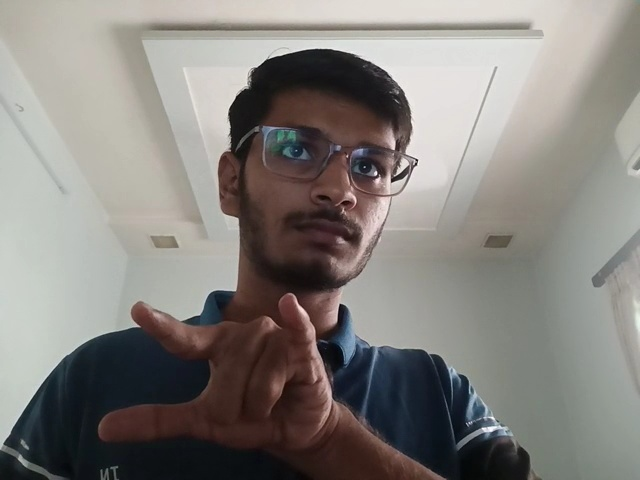I Love You: (94, 289, 363, 462)
